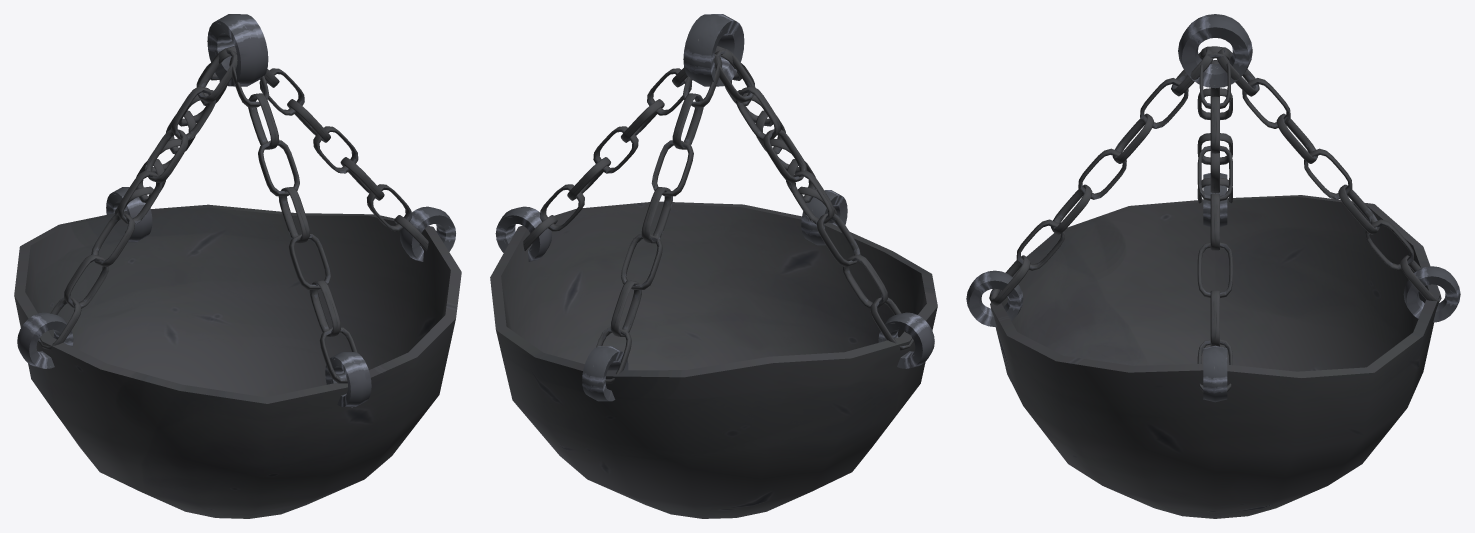
Rendered from caldero_colgante.glb.
The picture shows the model from 3 angles, left to right: view 1: azimuth 30°, elevation 25°; view 2: azimuth 150°, elevation 25°; view 3: azimuth 270°, elevation 25°; orthographic projection.
Parts seen in each view (by area): view 1: Caldero.001, NurbsPath.003, NurbsPath, NurbsPath.002, Anilla04.001, Anilla01, Anilla03, NurbsPath.001, Anilla02, Anilla04, Retopo_NurbsPath; view 2: Caldero.001, NurbsPath.003, NurbsPath.001, NurbsPath.002, Anilla04.001, Anilla01, Anilla04, NurbsPath, Anilla02, Anilla03, Retopo_NurbsPath.003; view 3: Caldero.001, NurbsPath, NurbsPath.001, NurbsPath.002, Anilla04.001, NurbsPath.003, Anilla03, Anilla04, Anilla02, Anilla01.
Boxes of the visible parts, bbox=[...] form: Caldero.001: bbox=[14, 204, 461, 518]; NurbsPath.003: bbox=[38, 49, 237, 350]; NurbsPath: bbox=[229, 54, 357, 383]; NurbsPath.002: bbox=[259, 68, 428, 250]; Anilla04.001: bbox=[207, 14, 268, 86]; Anilla01: bbox=[17, 312, 73, 368]; Anilla03: bbox=[325, 352, 371, 407]; NurbsPath.001: bbox=[114, 46, 236, 214]; Anilla02: bbox=[400, 206, 455, 261]; Anilla04: bbox=[106, 187, 152, 242]; Retopo_NurbsPath: bbox=[246, 84, 347, 380]; Caldero.001: bbox=[490, 201, 937, 518]; NurbsPath.003: bbox=[714, 49, 913, 350]; NurbsPath.001: bbox=[596, 54, 722, 383]; NurbsPath.002: bbox=[523, 67, 691, 250]; Anilla04.001: bbox=[683, 14, 744, 86]; Anilla01: bbox=[878, 312, 934, 368]; Anilla04: bbox=[582, 346, 628, 401]; NurbsPath: bbox=[715, 46, 837, 223]; Anilla02: bbox=[495, 206, 551, 261]; Anilla03: bbox=[801, 190, 847, 245]; Retopo_NurbsPath.003: bbox=[719, 51, 911, 347]; Caldero.001: bbox=[990, 195, 1440, 518]; NurbsPath: bbox=[989, 47, 1213, 305]; NurbsPath.001: bbox=[1217, 47, 1441, 303]; NurbsPath.002: bbox=[1197, 52, 1232, 391]; Anilla04.001: bbox=[1178, 14, 1252, 88]; NurbsPath.003: bbox=[1197, 46, 1232, 203]; Anilla03: bbox=[966, 270, 1023, 326]; Anilla04: bbox=[1403, 266, 1460, 322]; Anilla02: bbox=[1203, 345, 1227, 402]; Anilla01: bbox=[1203, 173, 1227, 227].
Bounding box in the file's own units: 2.21 × 2.36 × 2.19.
Materials: 2 (2 with a texture image).
